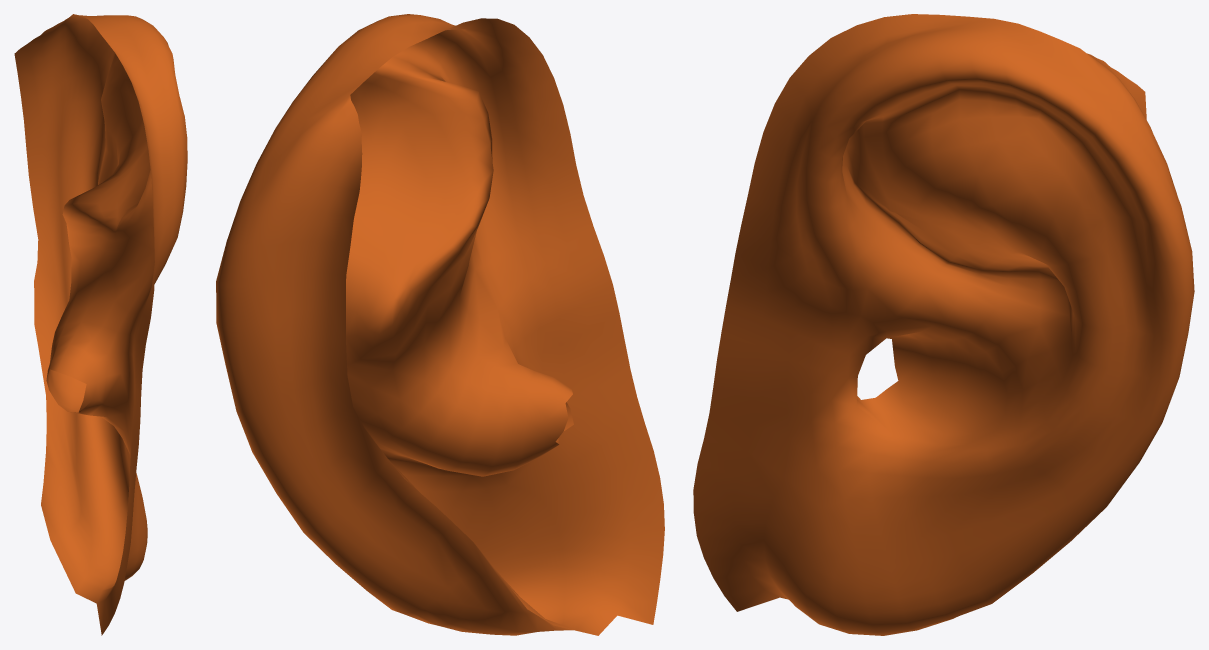
The model's file is shrunk_to_cauli.fbx.
The picture shows the model from 3 angles, left to right: view 1: azimuth 30°, elevation 25°; view 2: azimuth 150°, elevation 25°; view 3: azimuth 270°, elevation 25°; orthographic projection. The views are drawn at different scales.
Visible parts, largest first — view 1: ear_shrunk>cauli; view 2: ear_shrunk>cauli; view 3: ear_shrunk>cauli.
Boxes of the visible parts, x1,y1,x2,y2 form: ear_shrunk>cauli: [14, 14, 187, 635]; ear_shrunk>cauli: [216, 14, 664, 635]; ear_shrunk>cauli: [693, 14, 1194, 635].
Size of the model in its own units: 26.6 by 74.64 by 51.83.
